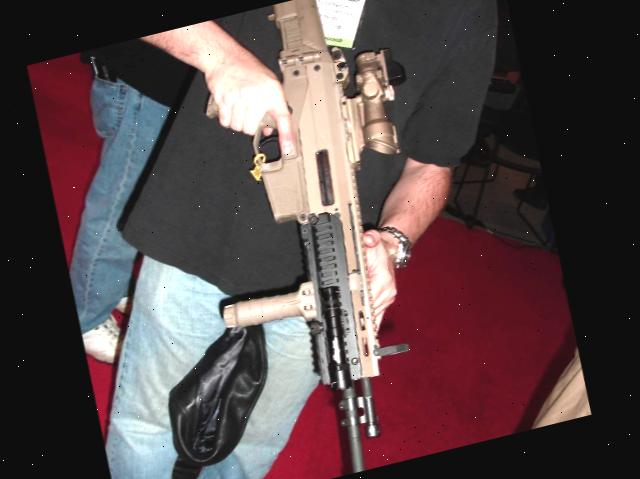rifle: (133, 0, 487, 479)
